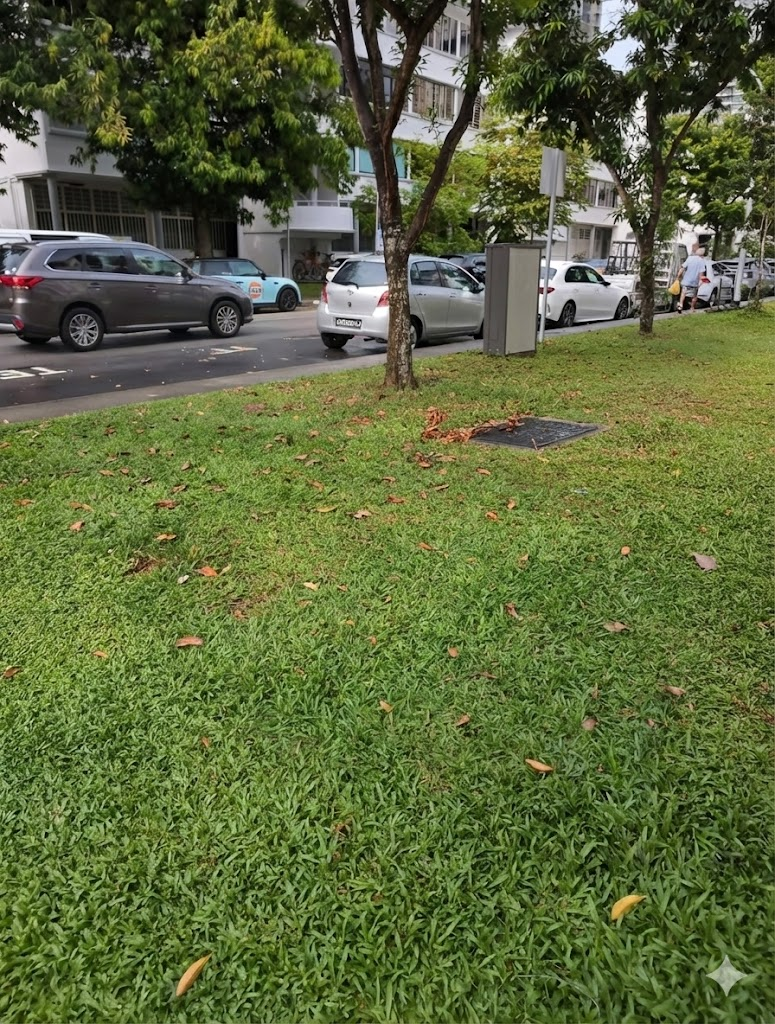vehicle: (0, 239, 252, 351), (317, 255, 395, 348), (408, 256, 482, 346), (189, 259, 300, 311), (546, 260, 629, 326)
